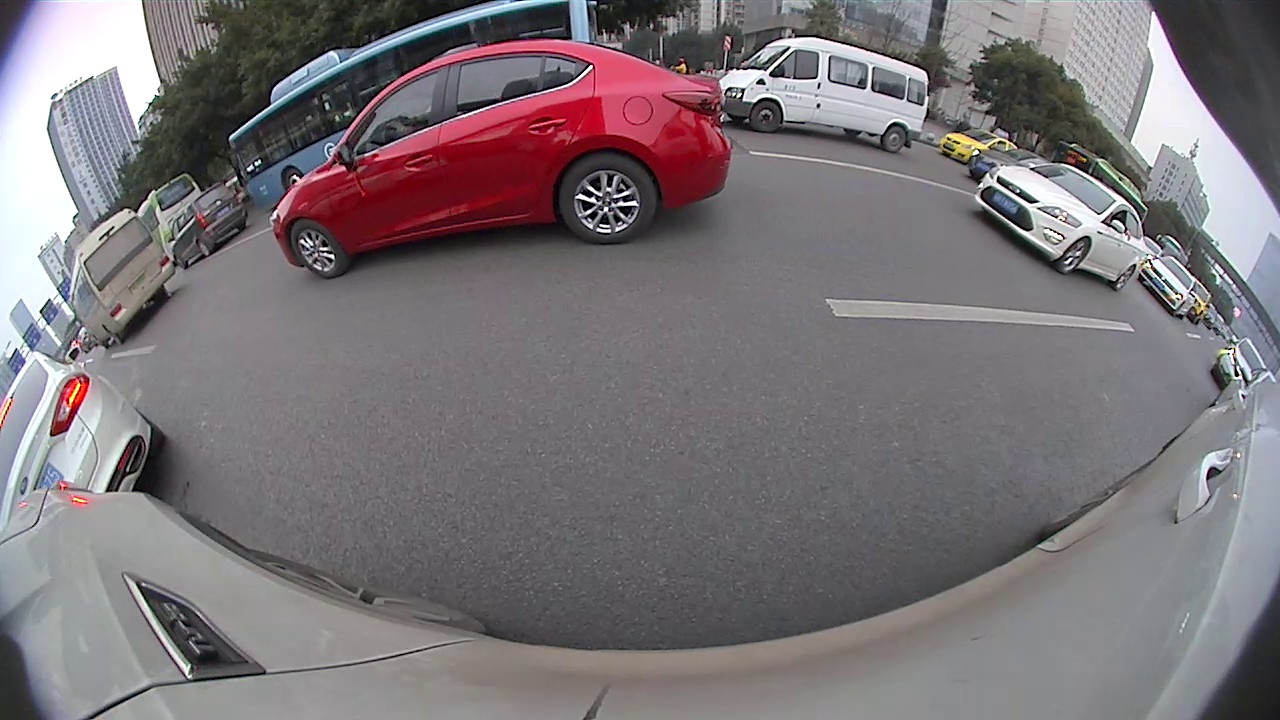bus: (229, 1, 595, 211), (65, 208, 178, 348)
car: (273, 43, 732, 276), (1, 349, 166, 534), (724, 36, 930, 152), (978, 163, 1141, 292), (170, 180, 248, 272), (1141, 256, 1197, 321)
front: (288, 215, 350, 281), (1056, 235, 1095, 274), (751, 98, 783, 133)
rear: (556, 150, 660, 247), (883, 123, 908, 155), (1114, 264, 1136, 294)
